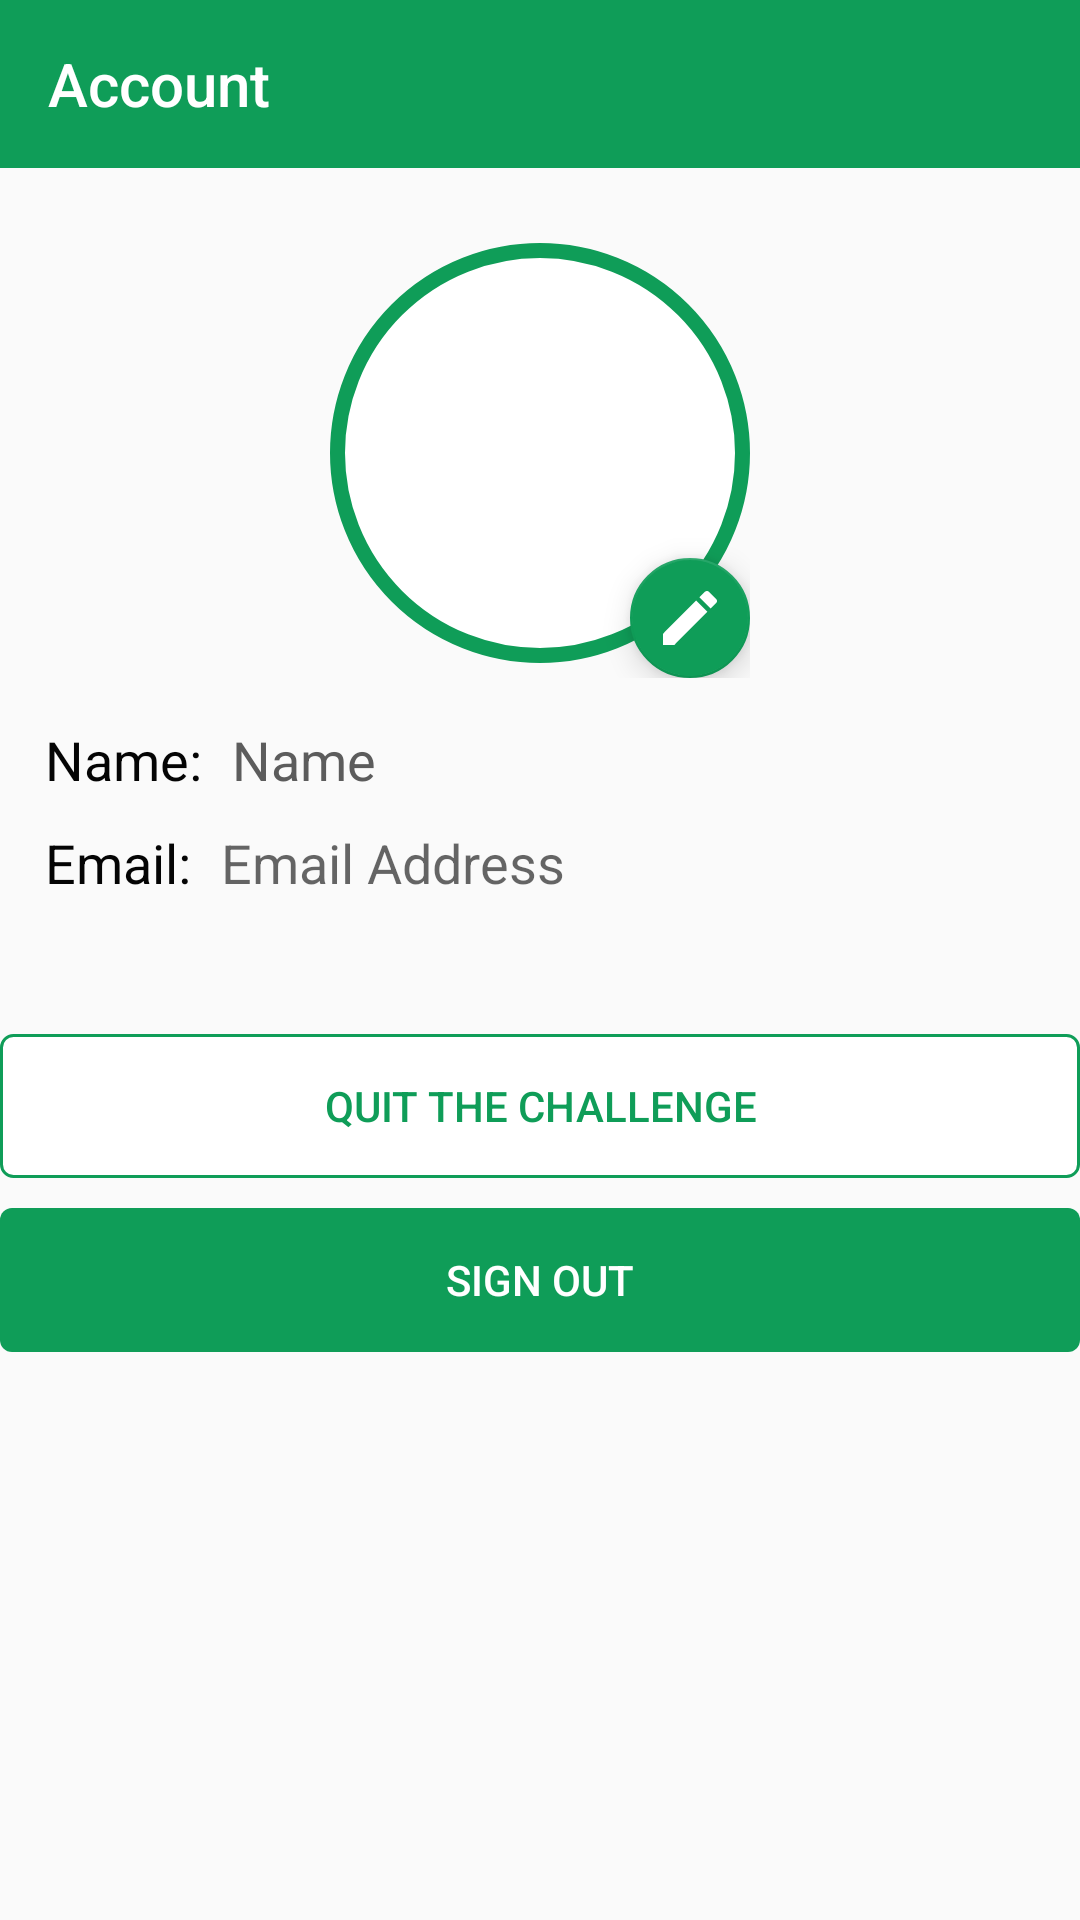

Screen size 1080×1920. Icon name, then its box in pixels as (x1, y1, x2, y2):
edit: (630, 558, 750, 678)
